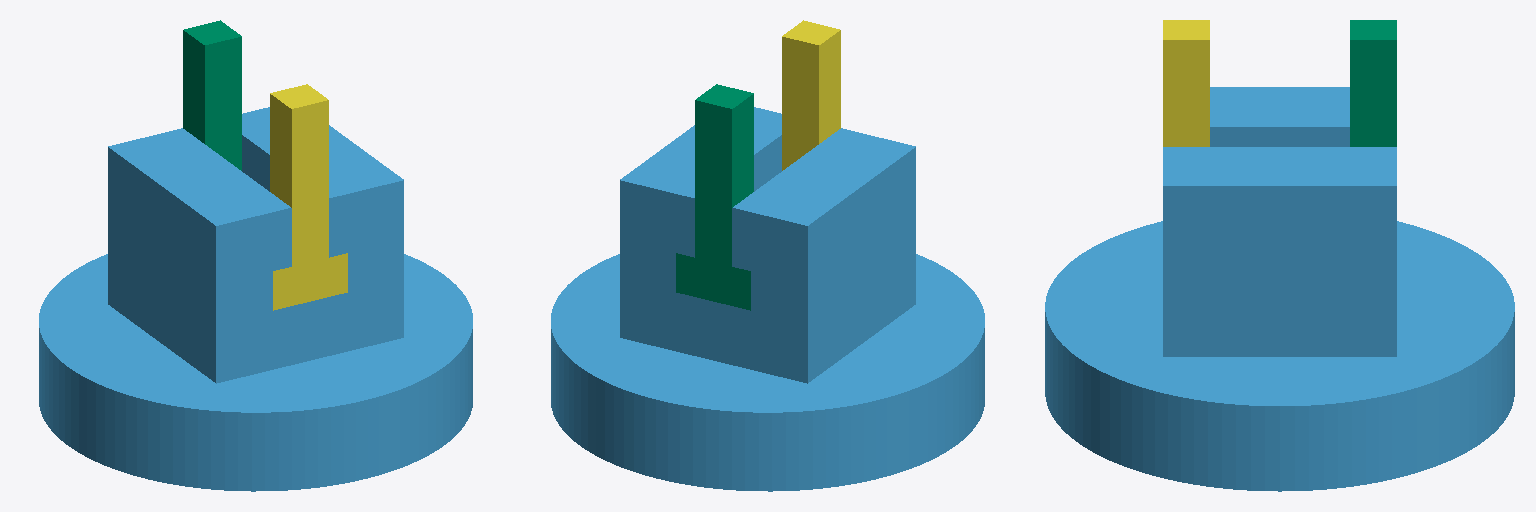
URDF robot description (gripper):
<?xml version='1.0' encoding='utf-8'?>
<robot name="gripper">
    <!-- FIX: Added a new, empty 'tool0' link to act as the root -->
    <link name="tool0"/>

    <!-- FIX: Added a fixed joint to connect 'tool0' to your first component -->
    <joint name="tool0_to_component1" type="fixed">
        <parent link="tool0"/>
        <child link="Component1"/>
        <origin xyz="0 0 0" rpy="0 0 0"/>
    </joint>

    <link name="Component1">
        <inertial>
            <origin xyz="4.664782436582747e-11 2.8471578281465793e-17 -0.05006071605888646" rpy="0.0 0.0 0.0" />
            <mass value="1.8807001156566872" />
            <inertia ixx="0.0013933187791043168" iyy="0.0014188312791433523" izz="0.0018367001453409107" ixy="2.141860025173074e-18" iyz="1.7523720274135495e-19" ixz="-1.759937135531329e-12" />
        </inertial>
        <visual name="Component1_visual">
            <origin xyz="0.0 0.0 0.0" rpy="0.0 0.0 0.0" />
            <geometry>
                <mesh filename="gripper_meshes/Component1.stl" scale="0.001 0.001 0.001" />
            </geometry>
        </visual>
        <collision name="Component1_collision">
            <origin xyz="0.0 0.0 0.0" rpy="0.0 0.0 0.0" />
            <geometry>
                <mesh filename="gripper_meshes/Component1.stl" scale="0.001 0.001 0.001" />
            </geometry>
        </collision>
    </link>
    <link name="finger">
        <inertial>
            <origin xyz="-1.1175870895385742e-09 -0.02166666689018404 -0.005" rpy="0.0 -0.0 0.0" />
            <mass value="0.04709999999999994" />
            <inertia ixx="1.125166666666666e-05" iyy="1.1774999999999426e-06" izz="1.1644166666666671e-05" ixy="1.9068066102479742e-21" iyz="1.6940658945086007e-21" ixz="-3.685939023859382e-21" />
        </inertial>
        <visual name="finger_visual">
            <origin xyz="0.0950000011175871 -0.03499999977648262 -0.009999999999999993" rpy="-1.5707963267948966 6.123233995736766e-17 3.141592653589793" />
            <geometry>
                <mesh filename="gripper_meshes/finger.stl" scale="0.001 0.001 0.001" />
            </geometry>
        </visual>
        <collision name="finger_collision">
            <origin xyz="0.0950000011175871 -0.03499999977648262 -0.009999999999999993" rpy="-1.5707963267948966 6.123233995736766e-17 3.141592653589793" />
            <geometry>
                <mesh filename="gripper_meshes/finger.stl" scale="0.001 0.001 0.001" />
            </geometry>
        </collision>
    </link>
    <link name="finger-2">
        <inertial>
            <origin xyz="1.1175870717750058e-09 -0.02166666689018404 -0.005000000000000009" rpy="0.0 -0.0 0.0" />
            <mass value="0.04709999999999993" />
            <inertia ixx="1.1251666666666612e-05" iyy="1.1775000000000578e-06" izz="1.1644166666666761e-05" ixy="-1.960097357704598e-21" iyz="-1.1858461261560205e-20" ixz="-7.496228173827347e-21" />
        </inertial>
        <visual name="finger-2_visual">
            <origin xyz="-0.09715810676377629 -0.035120643331385 0.03166755331773633" rpy="1.5707963267948966 -0.0 0.0" />
            <geometry>
                <mesh filename="gripper_meshes/finger-2.stl" scale="0.001 0.001 0.001" />
            </geometry>
        </visual>
        <collision name="finger-2_collision">
            <origin xyz="-0.09715810676377629 -0.035120643331385 0.03166755331773633" rpy="1.5707963267948966 -0.0 0.0" />
            <geometry>
                <mesh filename="gripper_meshes/finger-2.stl" scale="0.001 0.001 0.001" />
            </geometry>
        </collision>
    </link>
    <joint name="Component1_Slider-1" type="prismatic">
        <origin xyz="0.0 0.025 -0.035" rpy="-1.5707963267948966 -0.0 0.0" />
        <parent link="Component1" />
        <child link="finger" />
        <axis xyz="0.0 0.0 1.0" />
        <limit lower="-0.015" upper="0.0" effort="1000000" velocity="1000000" />
    </joint>
    <joint name="Component1_Slider-2" type="prismatic">
        <origin xyz="0.0 -0.025 -0.035" rpy="-1.5707963267948966 -0.0 3.141592653589793" />
        <parent link="Component1" />
        <child link="finger-2" />
        <axis xyz="-0.0 0.0 1.0" />
        <limit lower="-0.015" upper="0.0" effort="1000000" velocity="1000000" />
    </joint>
</robot>

--- Facts derived from the render (not from the file) ---
Views: 3 orthographic renders of the robot side by side, from view 1: azimuth 30°, elevation 25°; view 2: azimuth 150°, elevation 25°; view 3: azimuth 270°, elevation 25°.
Model gripper with 4 links and 3 joints (2 prismatic, 1 fixed), rooted at tool0, posed all joints at 0.
Links seen in each view (by area): view 1: Component1, finger-2, finger; view 2: Component1, finger, finger-2; view 3: Component1, finger, finger-2.
Link boxes in pixels (x1,y1,x2,y2): Component1: [39, 107, 472, 491]; finger-2: [270, 84, 347, 310]; finger: [183, 20, 241, 170]; Component1: [551, 107, 984, 491]; finger: [676, 84, 753, 310]; finger-2: [782, 20, 840, 170]; Component1: [1045, 87, 1514, 491]; finger: [1350, 20, 1396, 146]; finger-2: [1163, 20, 1209, 146].
Size in the robot's own frame: 0.1 by 0.1 by 0.085 metres.
3 mesh visuals loaded from 3 distinct referenced files (3 binary STL).
